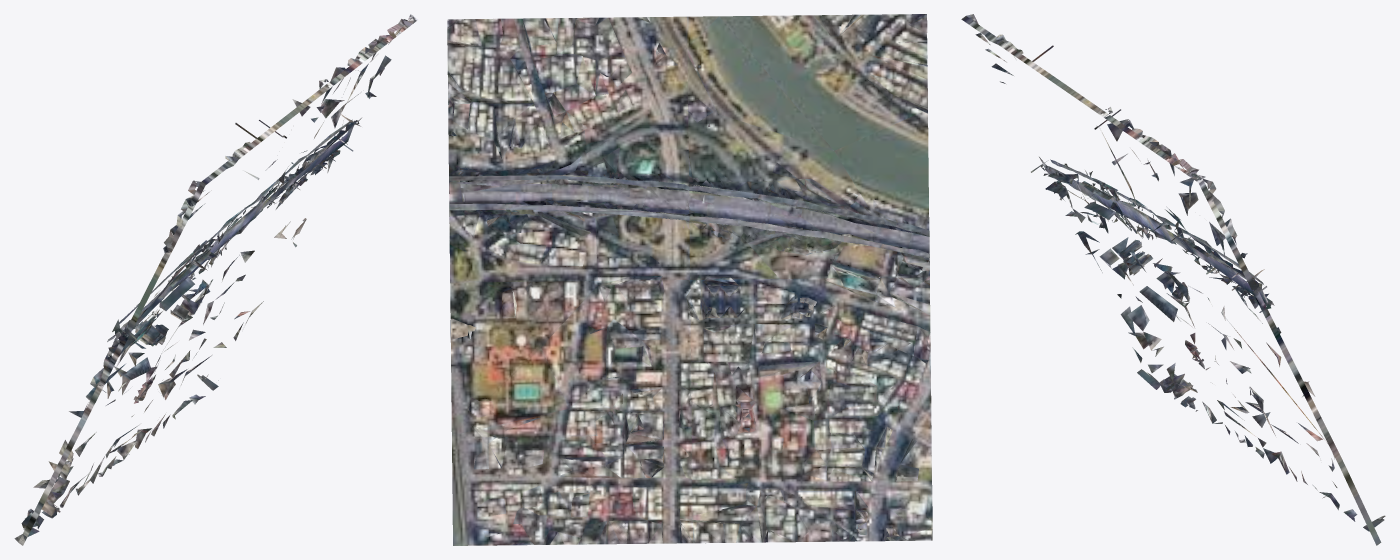
The picture shows the model from 3 angles, left to right: view 1: azimuth 30°, elevation 25°; view 2: azimuth 150°, elevation 25°; view 3: azimuth 270°, elevation 25°; orthographic projection. The views are drawn at different scales.
Bounding box in the file's own units: 1225 × 1136 × 1038.
Materials: 2 (2 with a texture image).
